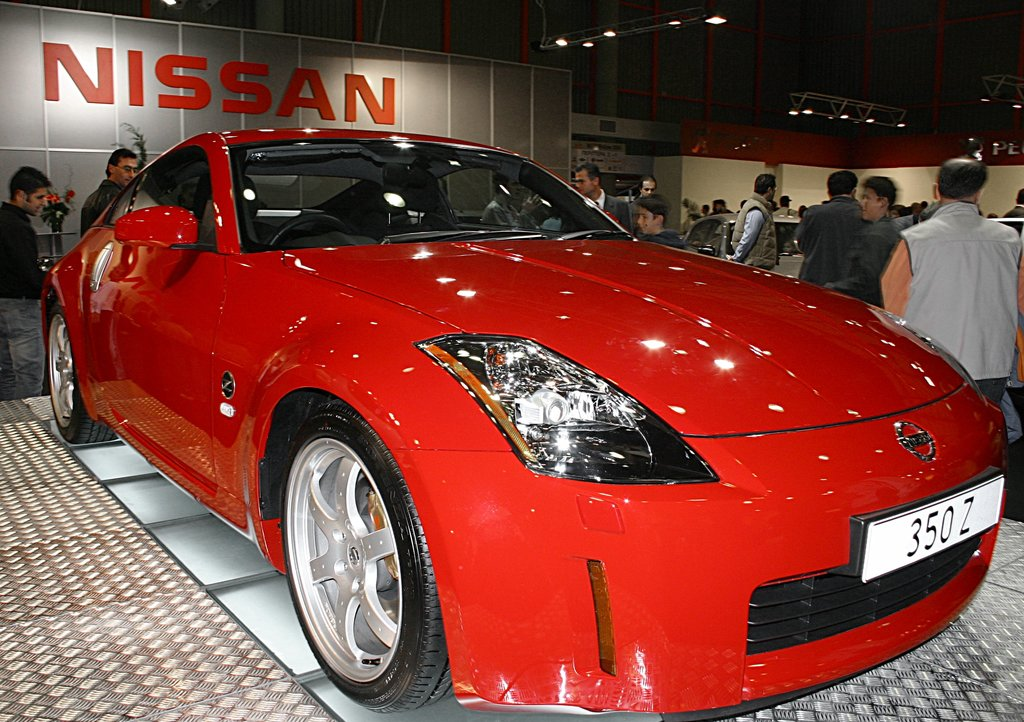Person: (478, 155, 1024, 455), (0, 161, 50, 402), (79, 147, 137, 238)
